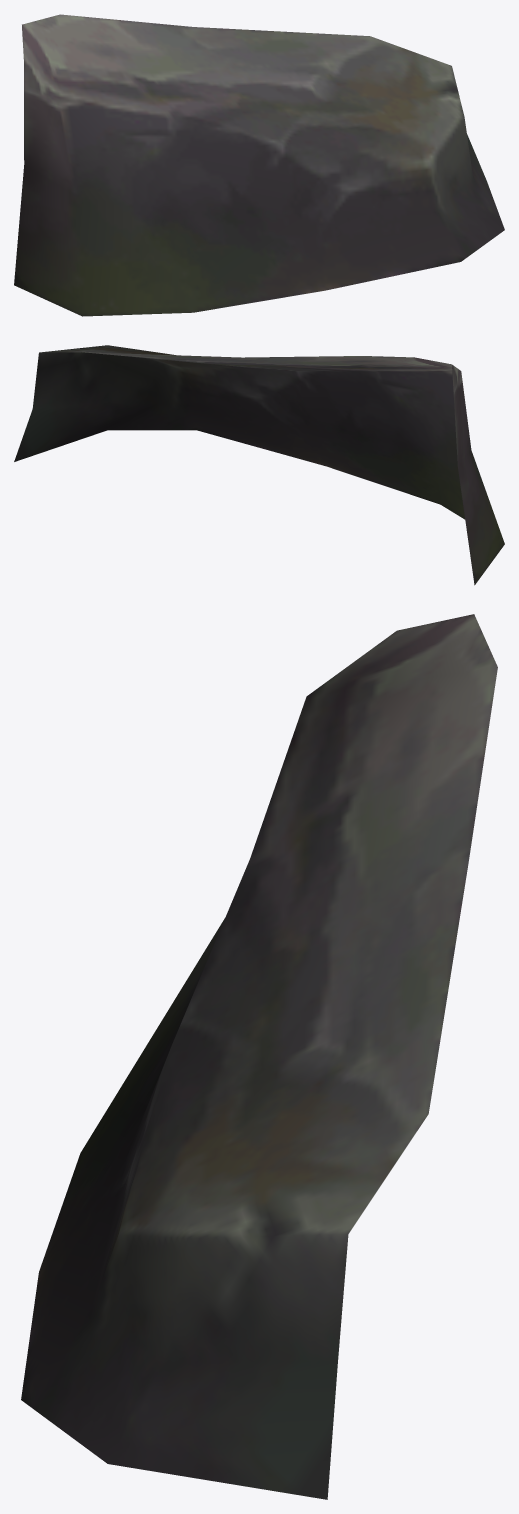
Rendered from yw_shanlin_stones_001.FBX.
3 renders of one model, top to bottom at view 1: azimuth 30°, elevation 25°; view 2: azimuth 150°, elevation 25°; view 3: azimuth 270°, elevation 25°, orthographic. The views are drawn at different scales.
Parts seen in each view (by area): view 1: yw_shanlin_stones_001; view 2: yw_shanlin_stones_001; view 3: yw_shanlin_stones_001.
Part boxes in pixels (left/top/right/bottom): yw_shanlin_stones_001: left=14, top=14, right=504, bottom=316; yw_shanlin_stones_001: left=14, top=345, right=504, bottom=585; yw_shanlin_stones_001: left=21, top=614, right=497, bottom=1499.
Size of the model in its own units: 76.02 by 34.01 by 36.8.
